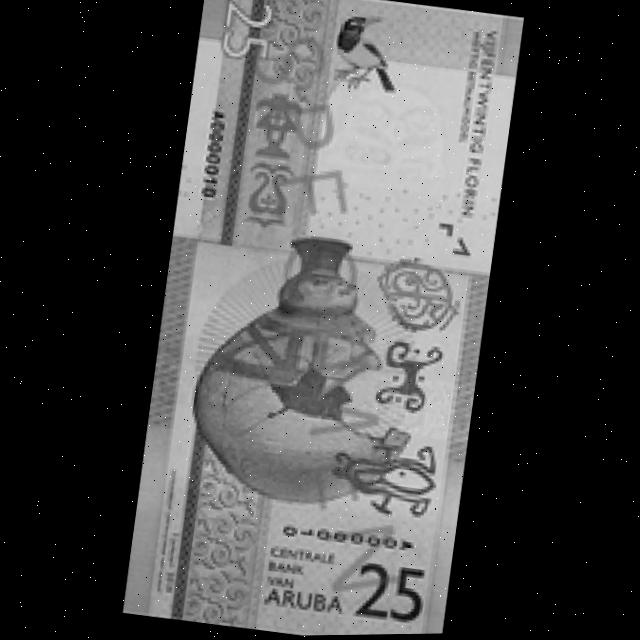banknote: (117, 0, 530, 639)
